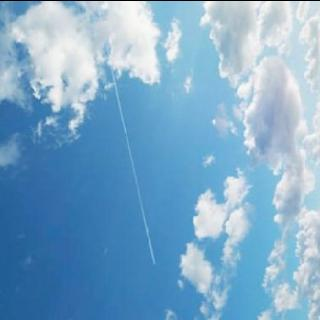Contrails: (121, 0, 164, 289)
